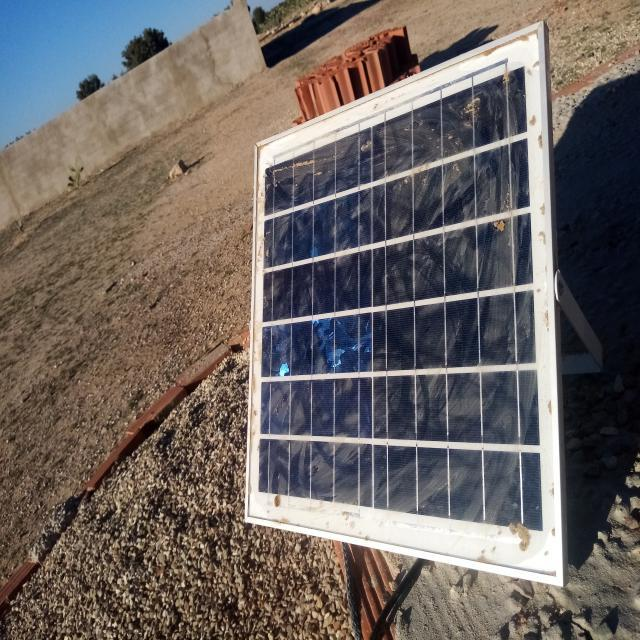faulty: (243, 23, 563, 587)
